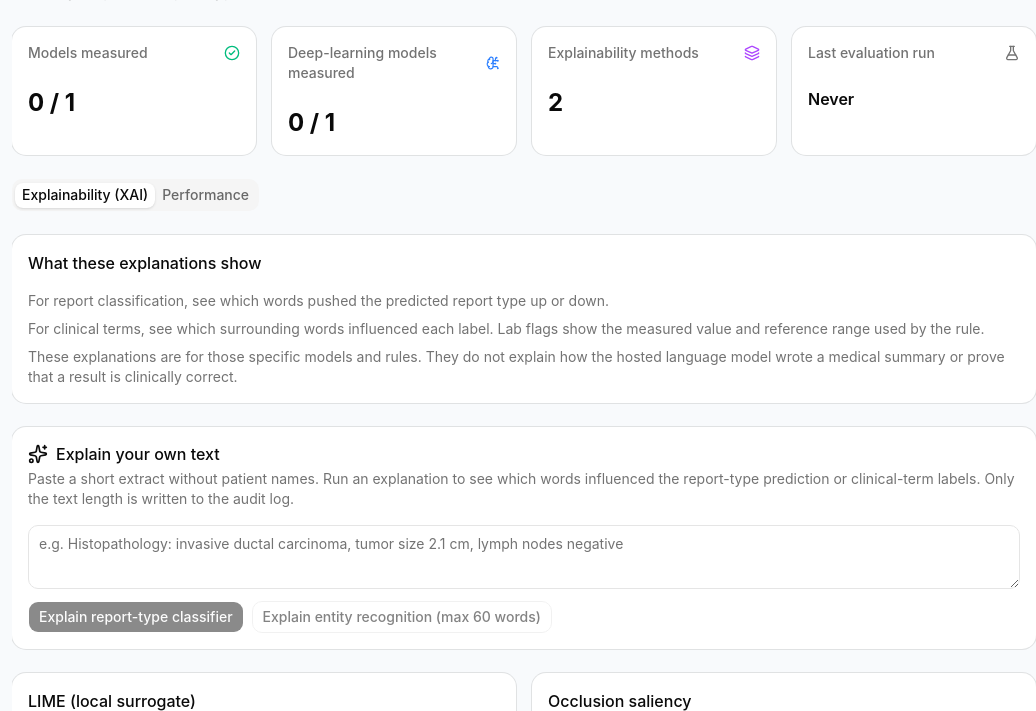
ModelPerformancePage › shows the training dataset card with counts when the server sends it
Click the tab "Performance". click: (206, 195)
box: [155,182,256,208]
(page scrolled)
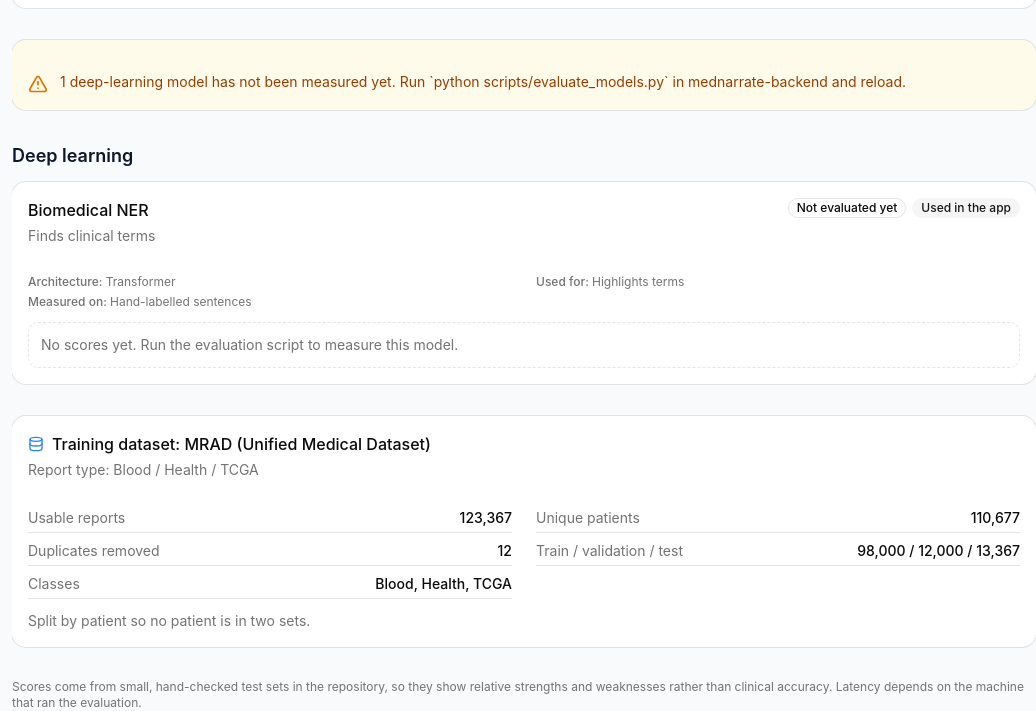
Now the element with test id "dataset-card" is shown, box [12,416,1035,647]
Now the text "Training dataset: MRAD (Unified Medical Dataset)" is shown, box [28,434,431,454]
Now the text "123,367" is shown, box [460,508,512,528]
